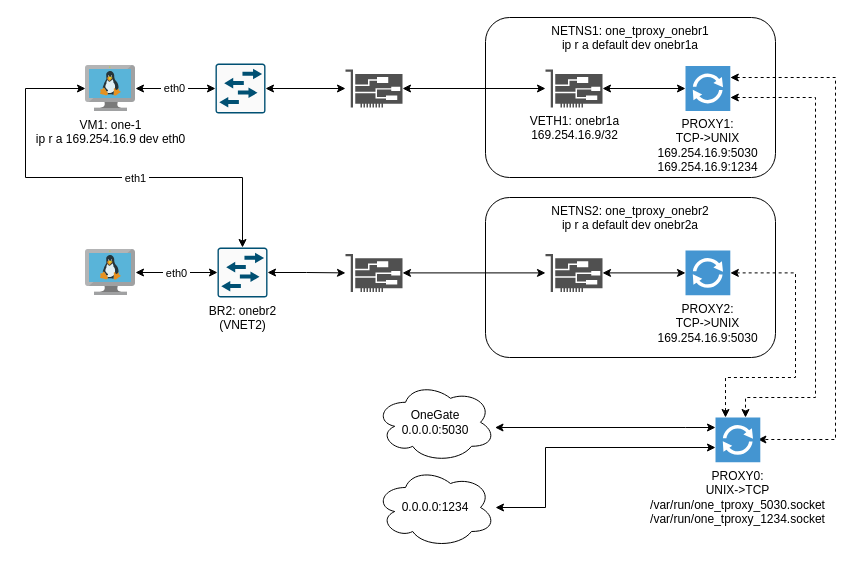
Some shapes in this 862 by 565 pixel diagram are drawn without their labels. The shapes that lost their labels are listed below. From the top down, each one's centre as x and y in pixels, then its label:
point (240, 88): BR1: onebr1 (VNET1)
point (373, 88): VETH1: onebr1b
point (110, 272): VM2: one-2 ip r a 169.254.16.9 dev eth0
point (373, 272): VETH2: onebr2b
point (573, 272): VETH2: onebr2a 169.254.16.9/32
